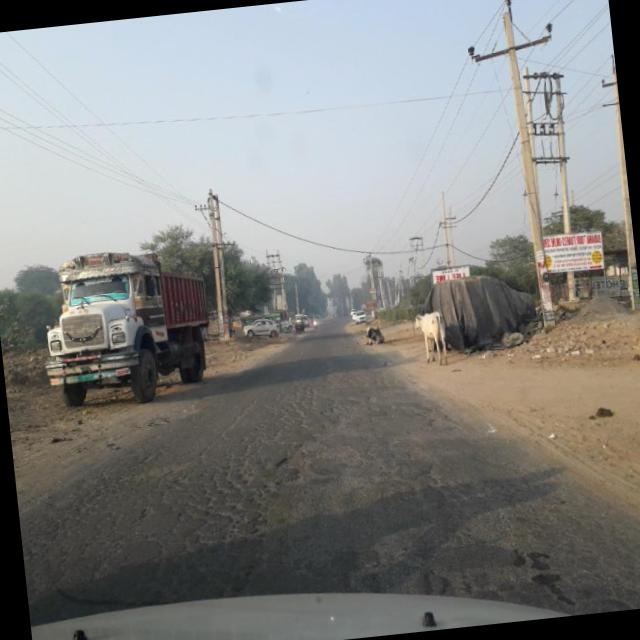crack: (9, 378, 416, 602), (334, 423, 620, 595)
